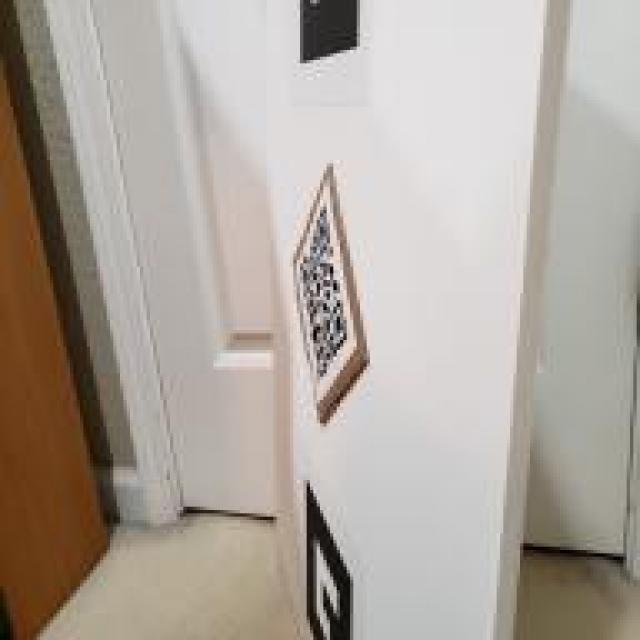qr_code: (299, 203, 347, 380)
